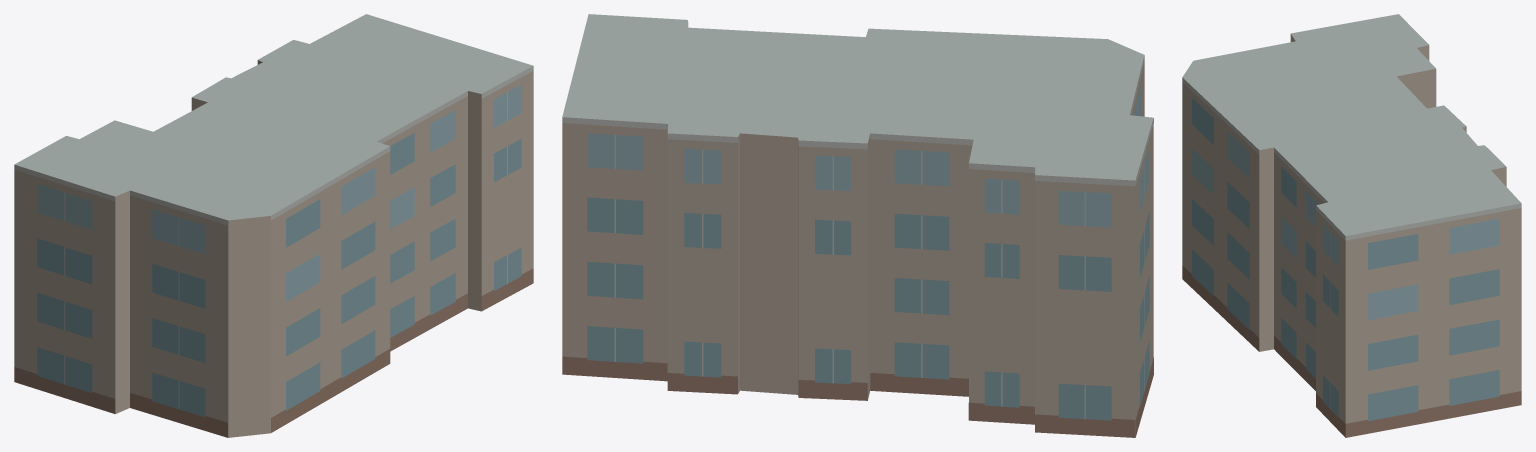
File: survey-upis-32590915.glb
3 views of the same model, side by side, from view 1: azimuth 30°, elevation 25°; view 2: azimuth 150°, elevation 25°; view 3: azimuth 270°, elevation 25° (orthographic). The views are drawn at different scales.
Visible parts, largest first — view 1: survey-upis-32590915.tmp; view 2: survey-upis-32590915.tmp; view 3: survey-upis-32590915.tmp.
Part boxes in pixels (left/top/right/bottom): survey-upis-32590915.tmp: left=14, top=14, right=533, bottom=437; survey-upis-32590915.tmp: left=562, top=14, right=1153, bottom=437; survey-upis-32590915.tmp: left=1182, top=14, right=1521, bottom=437.
Size of the model in its own units: 25.47 by 10.78 by 16.45.
